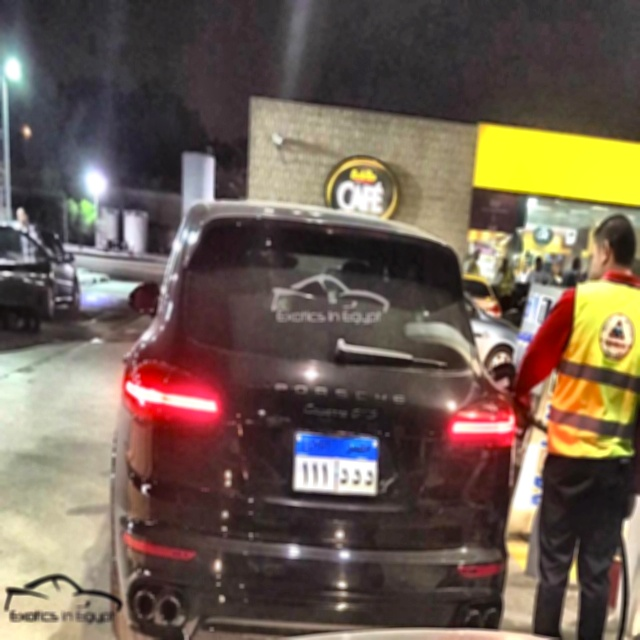License Plate: (292, 429, 380, 497)
